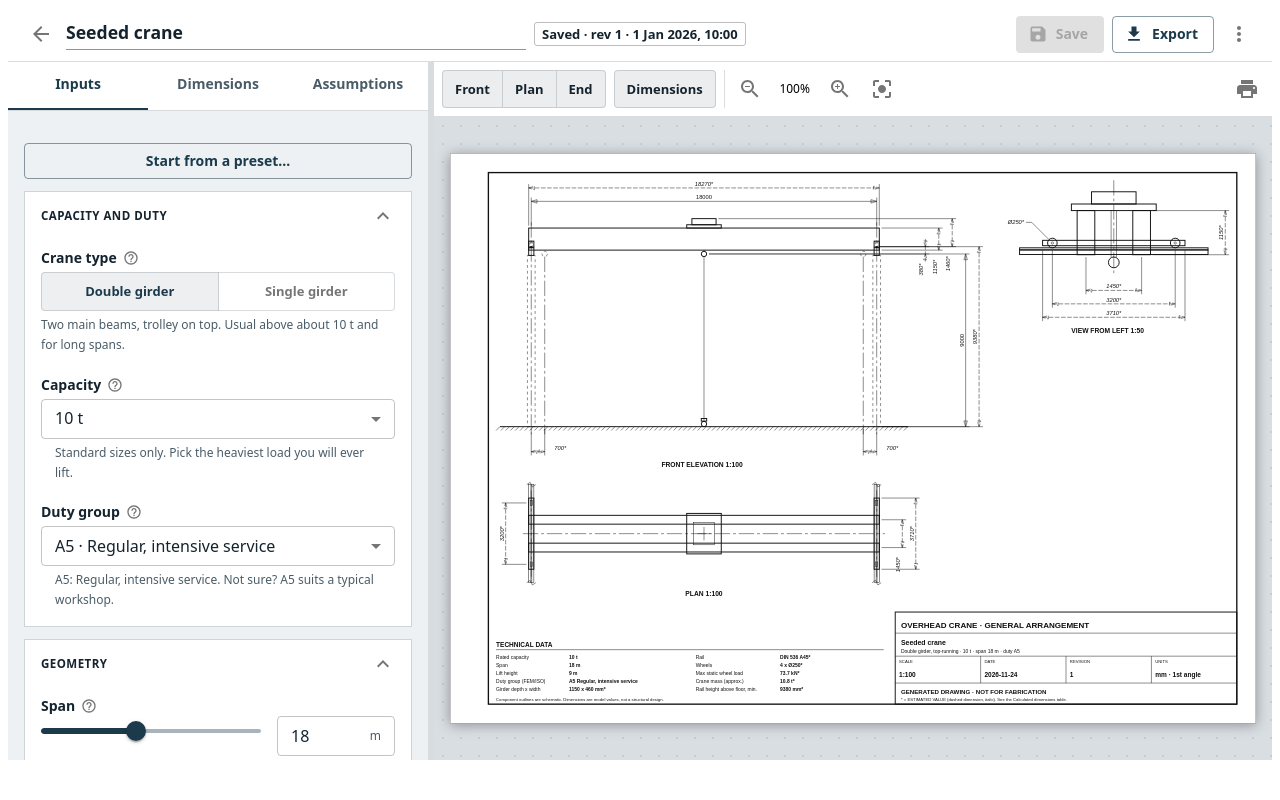
Test case: editor: conflicts and safety › offers three ways out of a revision conflict and can overwrite
Clear the field named "Design name" at point(296, 34), box [66,19,526,50]
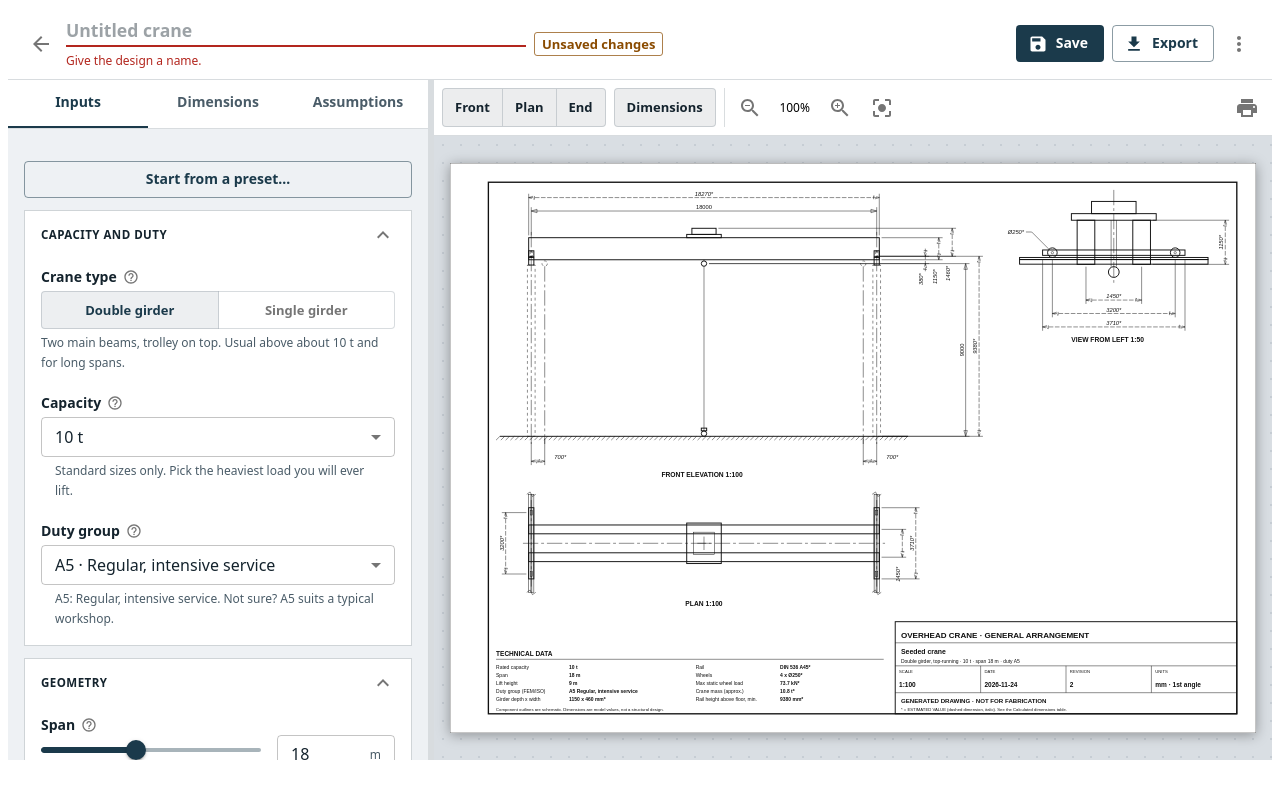
Type "My edit" into the field named "Design name".
click(296, 32); type("My edit")  # box [66,16,526,47]
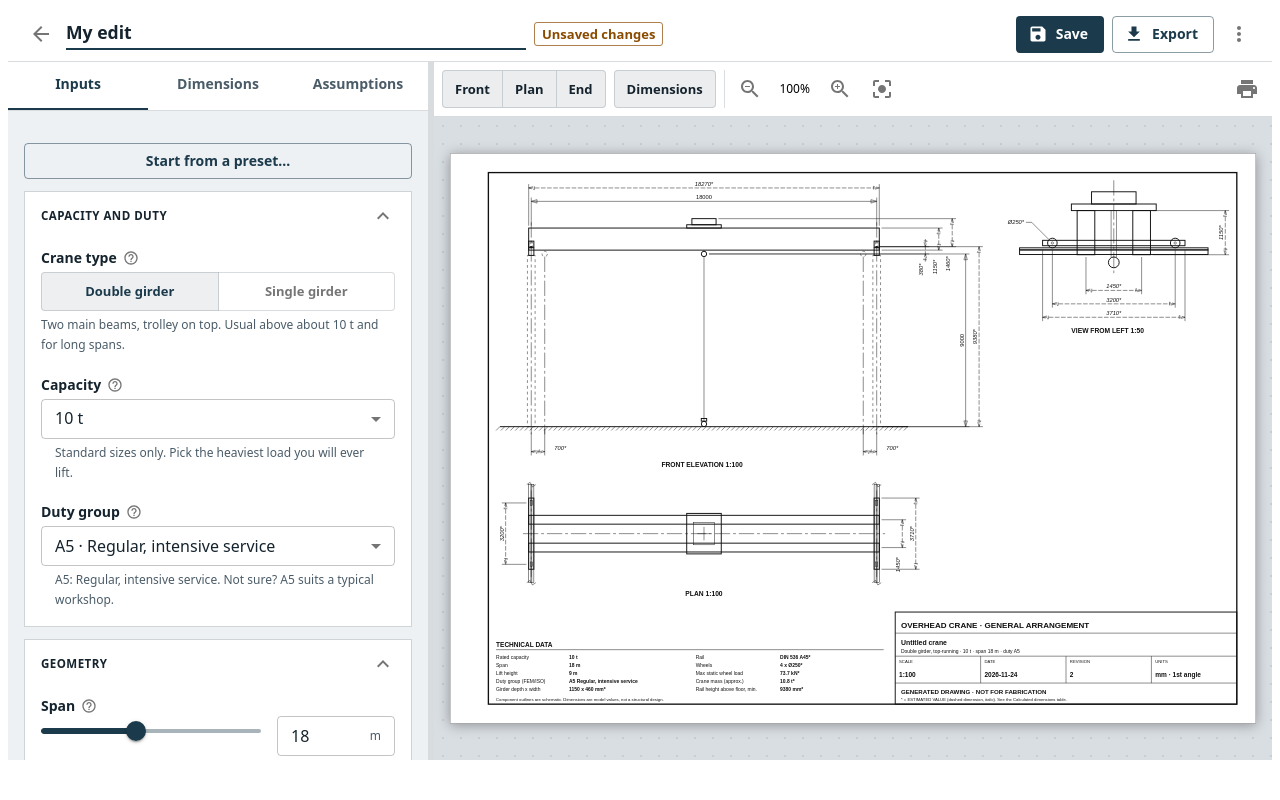
Click the button with test id "save-button".
click(1060, 34)  # box [1016,16,1104,52]
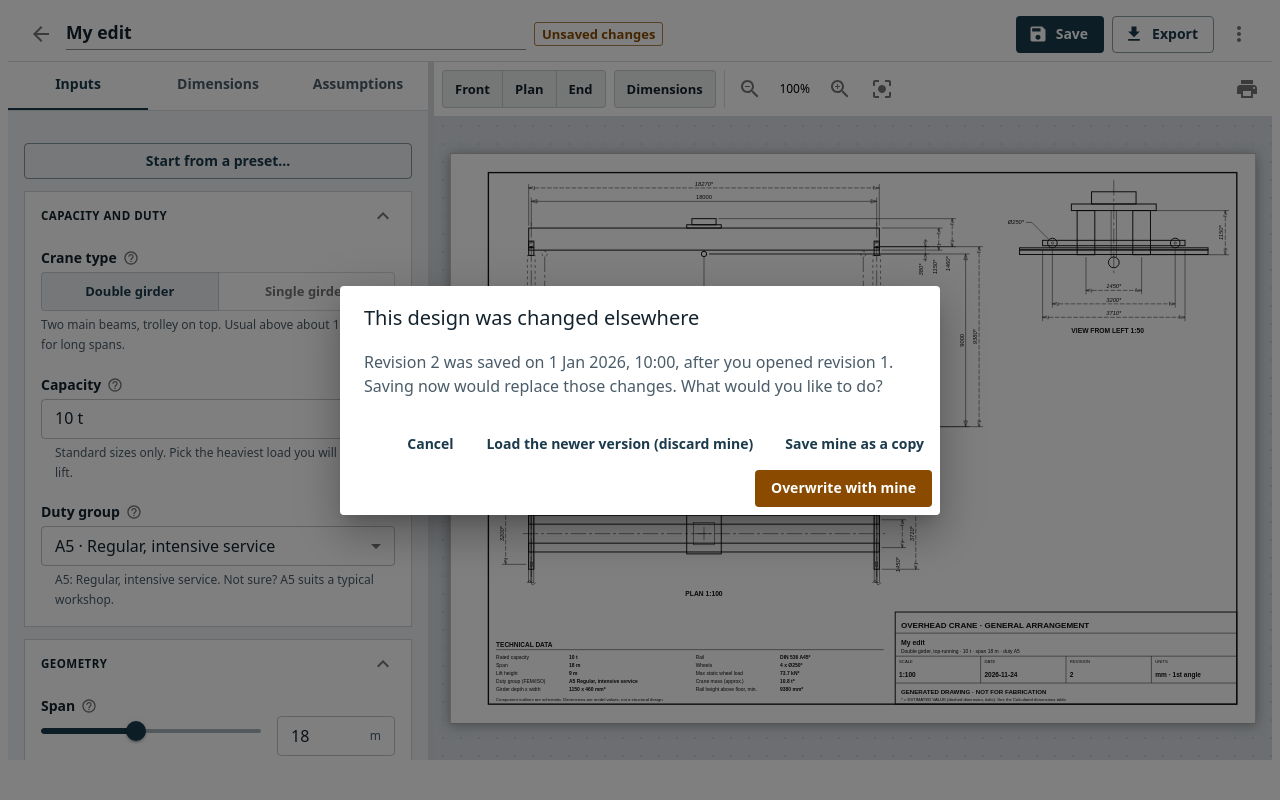
Expected: the text "Revision 2 was saved" is shown, [364,350,916,398]
Expected: the button "Load the newer version (discard mine)" is shown, [478,426,761,462]
Expected: the button "Save mine as a copy" is shown, [777,426,932,462]
Click the button "Overwrite with mine".
click(844, 488)  # box [755,470,932,506]
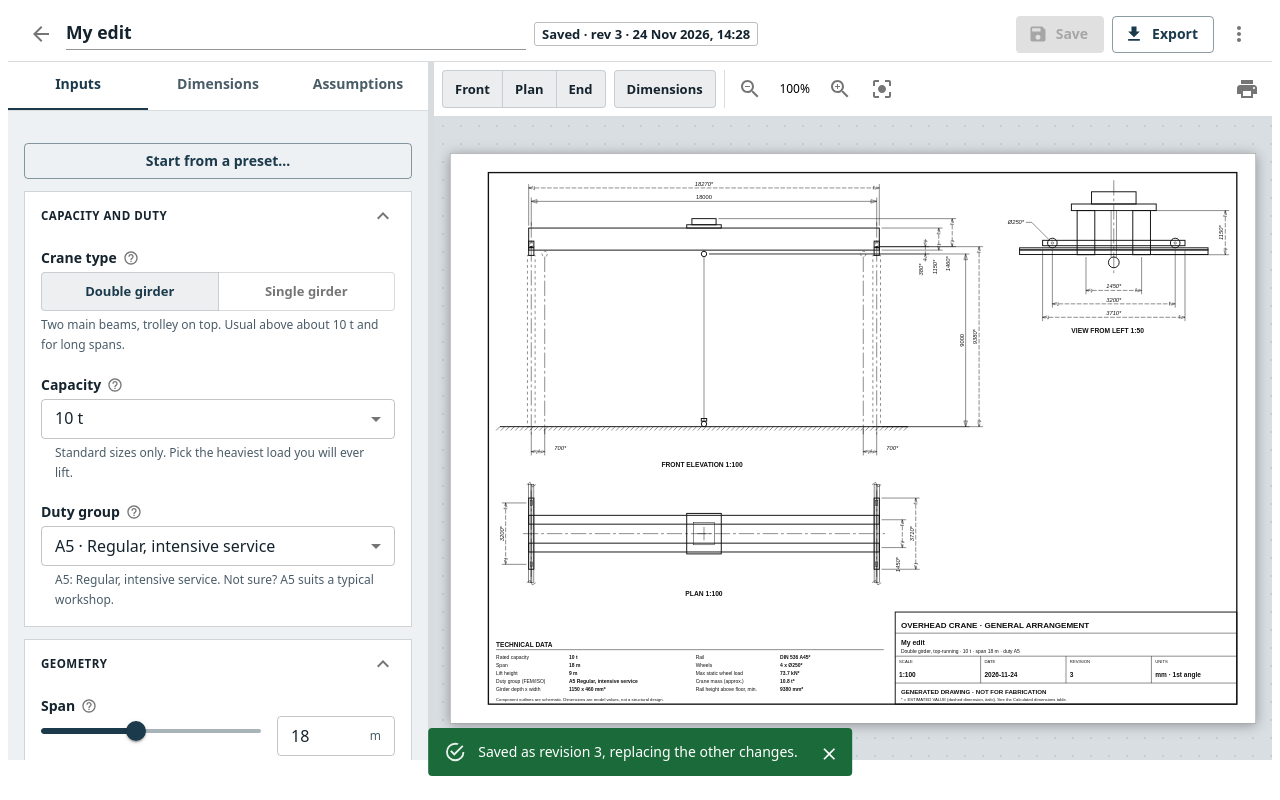
Expected: the element with test id "saved-chip" shows "rev 3", [542,25,750,43]
